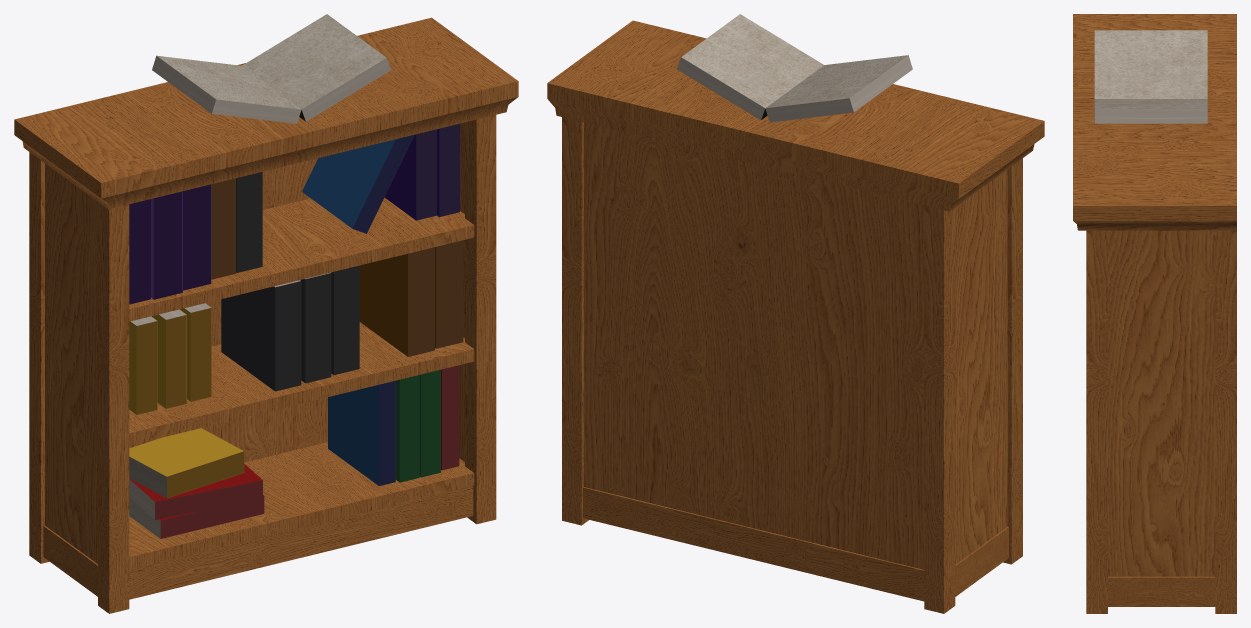
File: bookshelf2.glb
3 views of the same model, side by side, from view 1: azimuth 30°, elevation 25°; view 2: azimuth 150°, elevation 25°; view 3: azimuth 270°, elevation 25° (orthographic). The views are drawn at different scales.
Visible parts, largest first — view 1: Bookshelf; view 2: Bookshelf; view 3: Bookshelf.
Part boxes in pixels (x1=…): Bookshelf: x1=14, y1=14, x2=518, y2=613; Bookshelf: x1=547, y1=14, x2=1044, y2=613; Bookshelf: x1=1073, y1=14, x2=1236, y2=613.
Size of the model in its own units: 4.23 by 4.69 by 1.52.
Materials: 1 (1 with a texture image).
